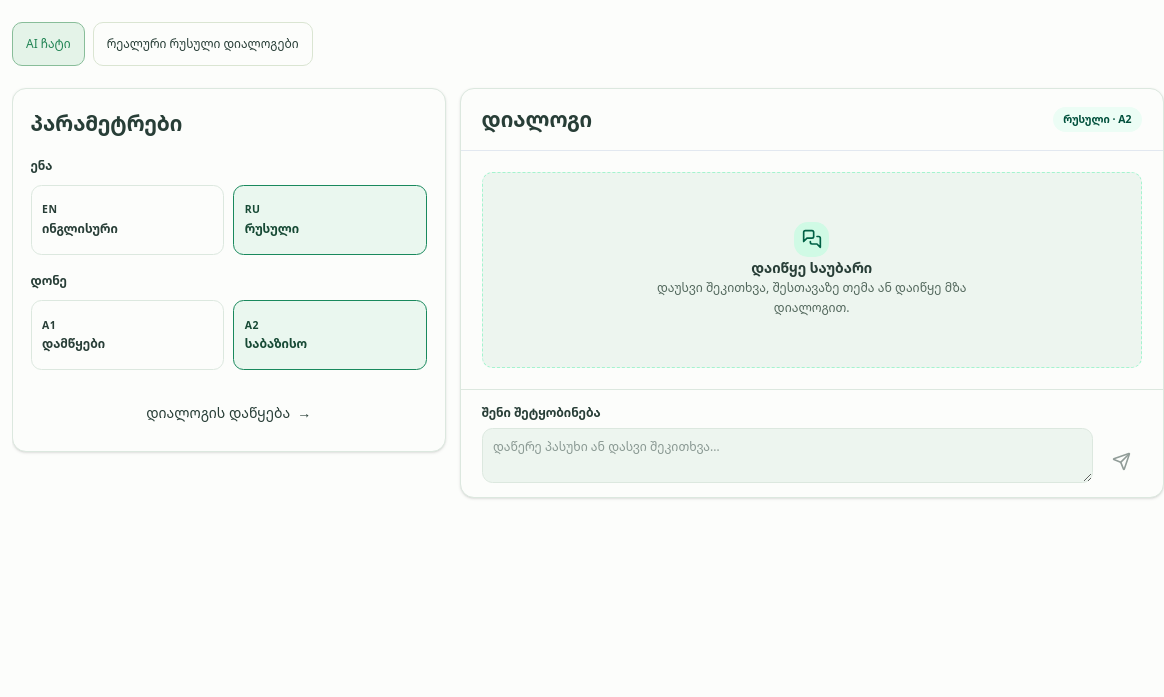
Test: keeps the selected answer retryable and shows Georgian feedback with three new choices
Click the button "დიალოგის დაწყება →": (229, 412) x1=30 y1=391 x2=427 y2=433
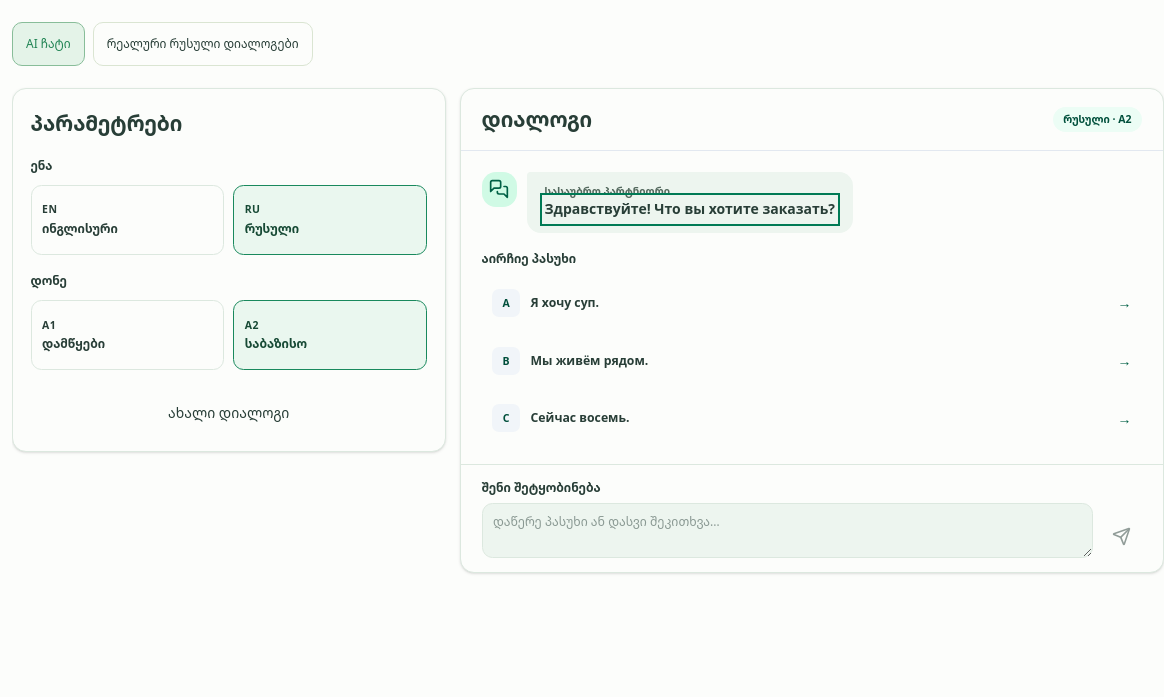
Expected: the text "Здравствуйте! Что вы хотите заказать?" is shown, x1=544 y1=198 x2=835 y2=221
Click the button "A Я хочу суп. →": (565, 302) x1=482 y1=278 x2=1142 y2=327
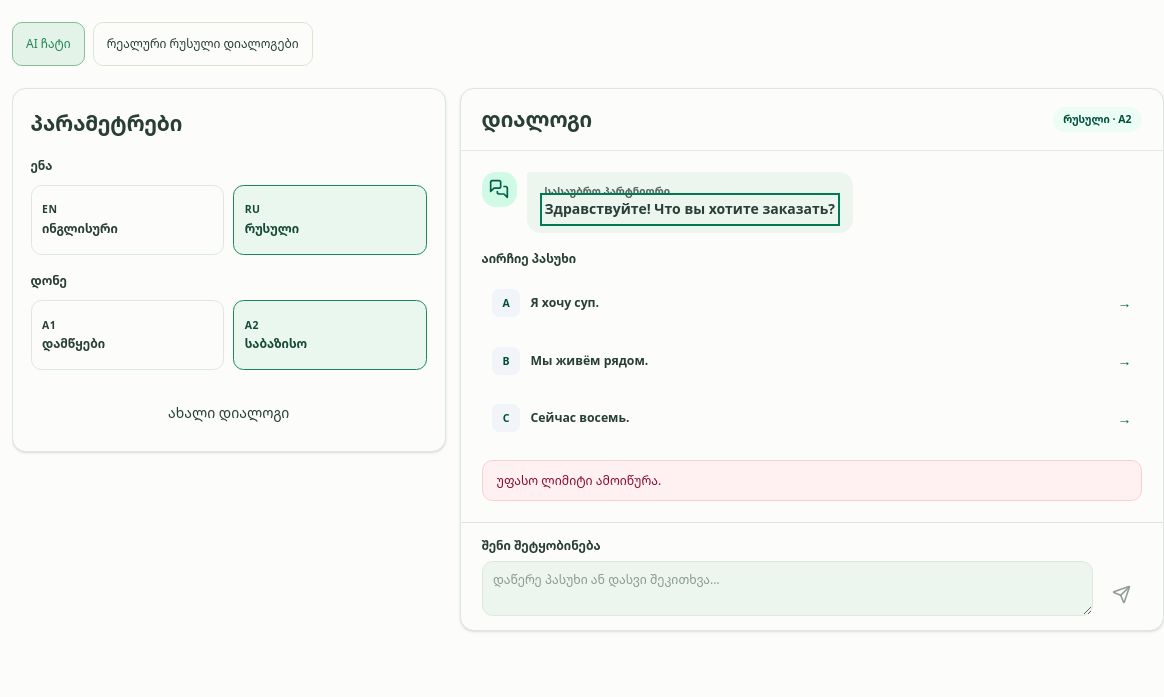
Expected: the message shows "უფასო ლიმიტი", x1=496 y1=472 x2=661 y2=489
Click the button "A Я хочу суп. →": (565, 302) x1=482 y1=278 x2=1142 y2=327
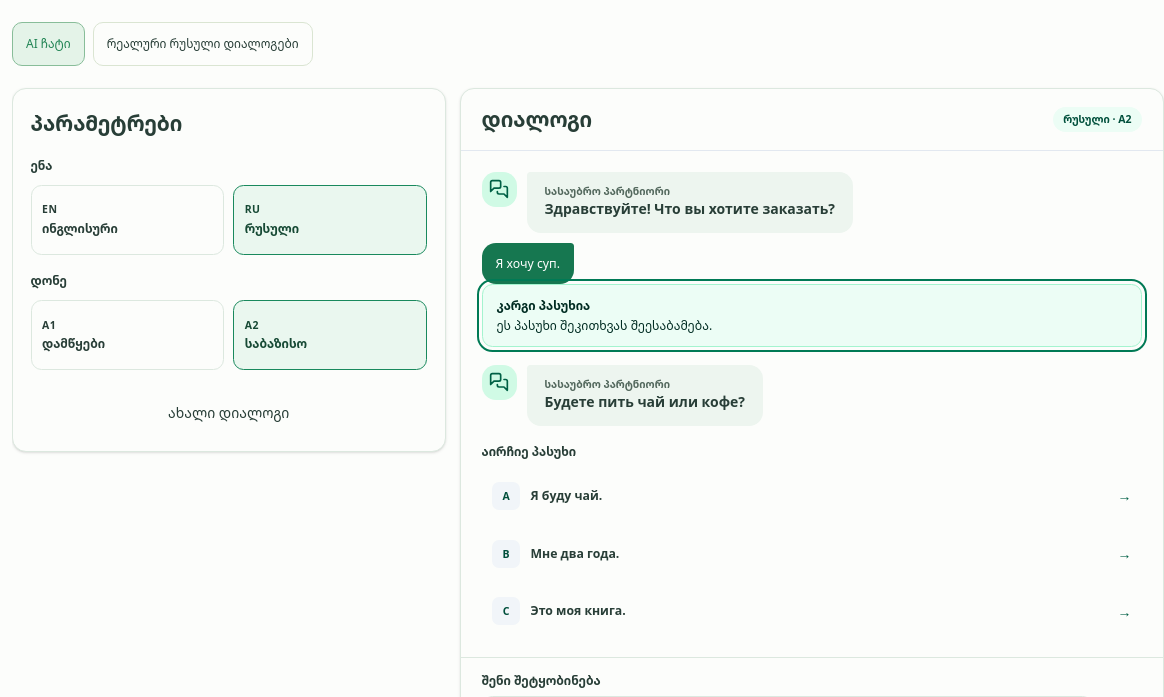
Expected: the text "ეს პასუხი შეკითხვას შეესაბამება." is shown, x1=496 y1=317 x2=712 y2=334
Expected: the text "Будете пить чай или кофе?" is shown, x1=544 y1=391 x2=745 y2=414
